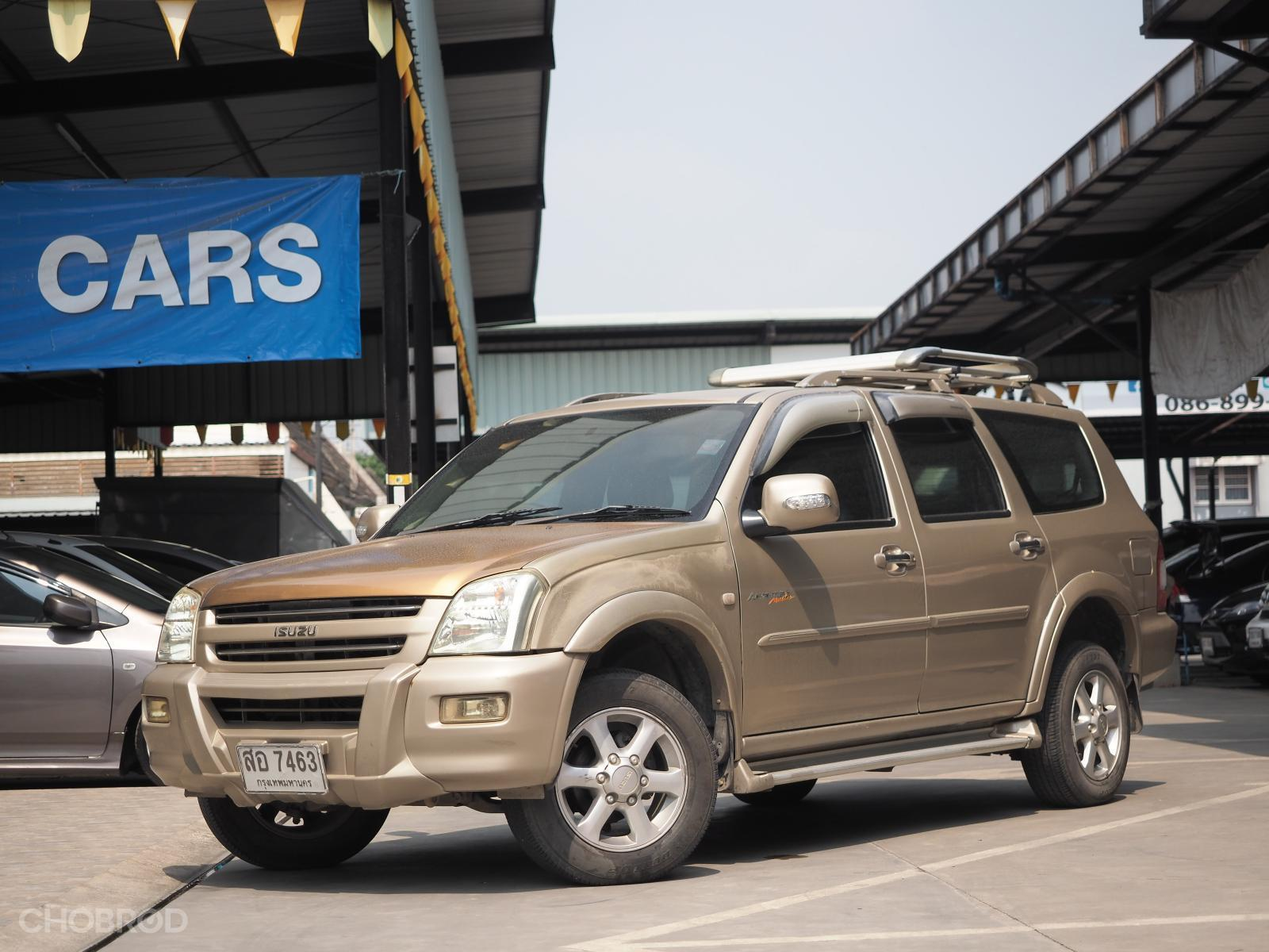license-plate: (234, 738, 334, 798), (1246, 624, 1265, 649), (1198, 636, 1216, 657)
